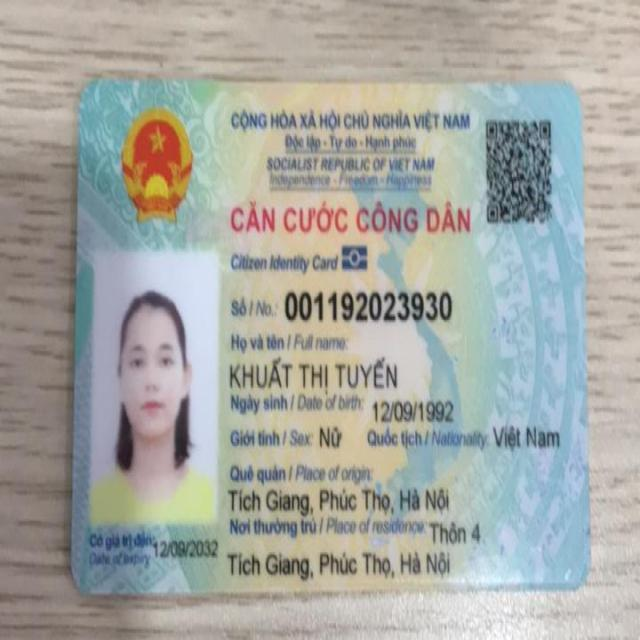bottom_left: (56, 551, 117, 604)
bottom_right: (544, 550, 596, 598)
image_person: (90, 252, 224, 526)
top_left: (66, 61, 124, 118)
top_right: (544, 63, 585, 113)
